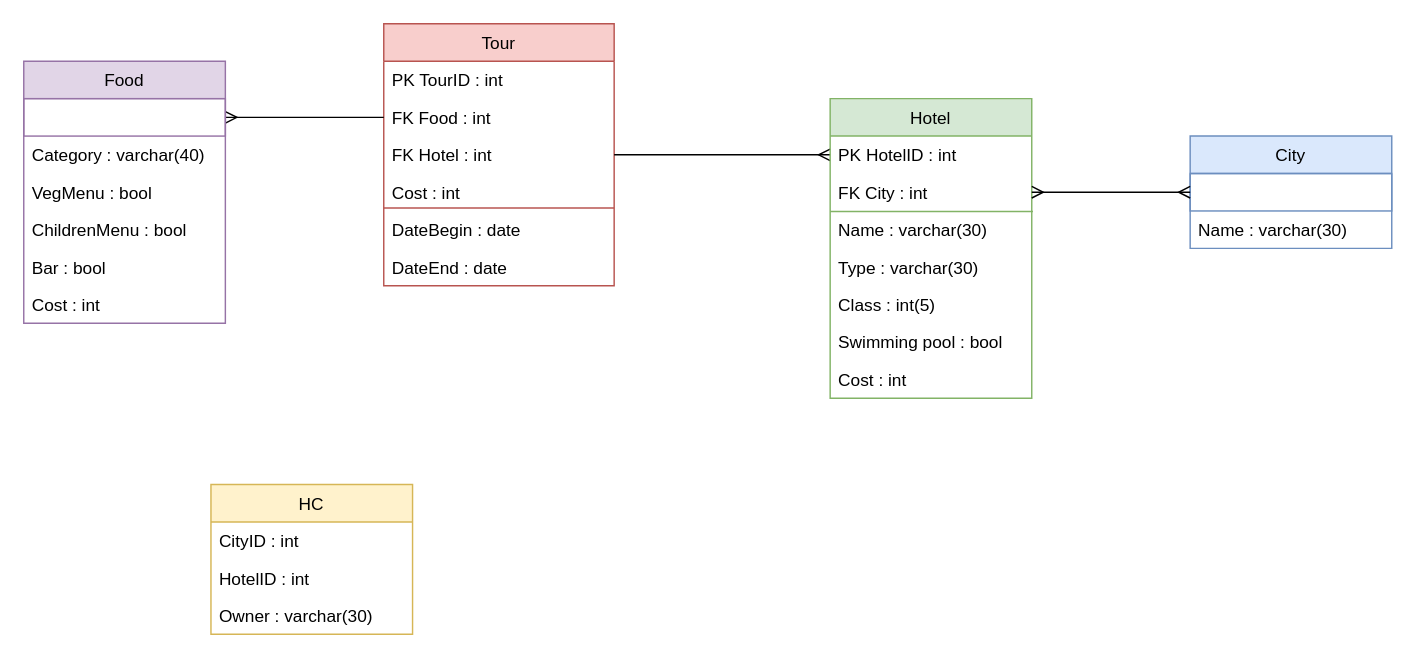
The diagram is 1416 pixels wide and 658 high, and some of its shapes have lost their labels. Each missing label, with the centre of its shape:
PK CityID : int: the point at 1290,191
PK FoodID : int: the point at 123,116
